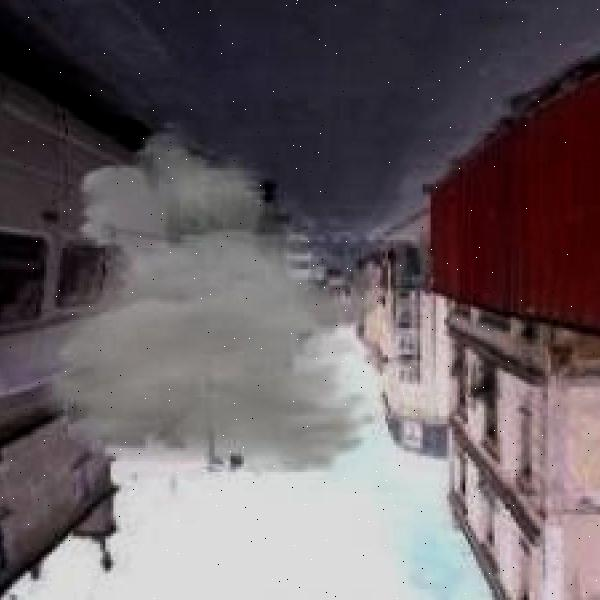smoke: (0, 120, 386, 475)
